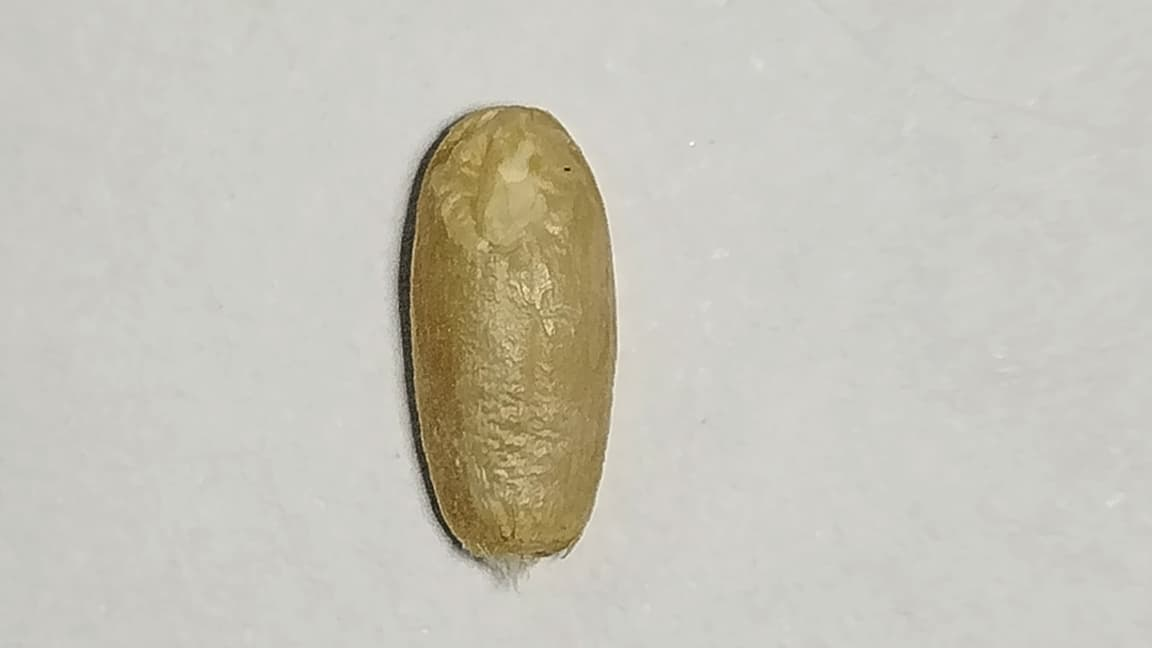healthy: (400, 102, 621, 570)
